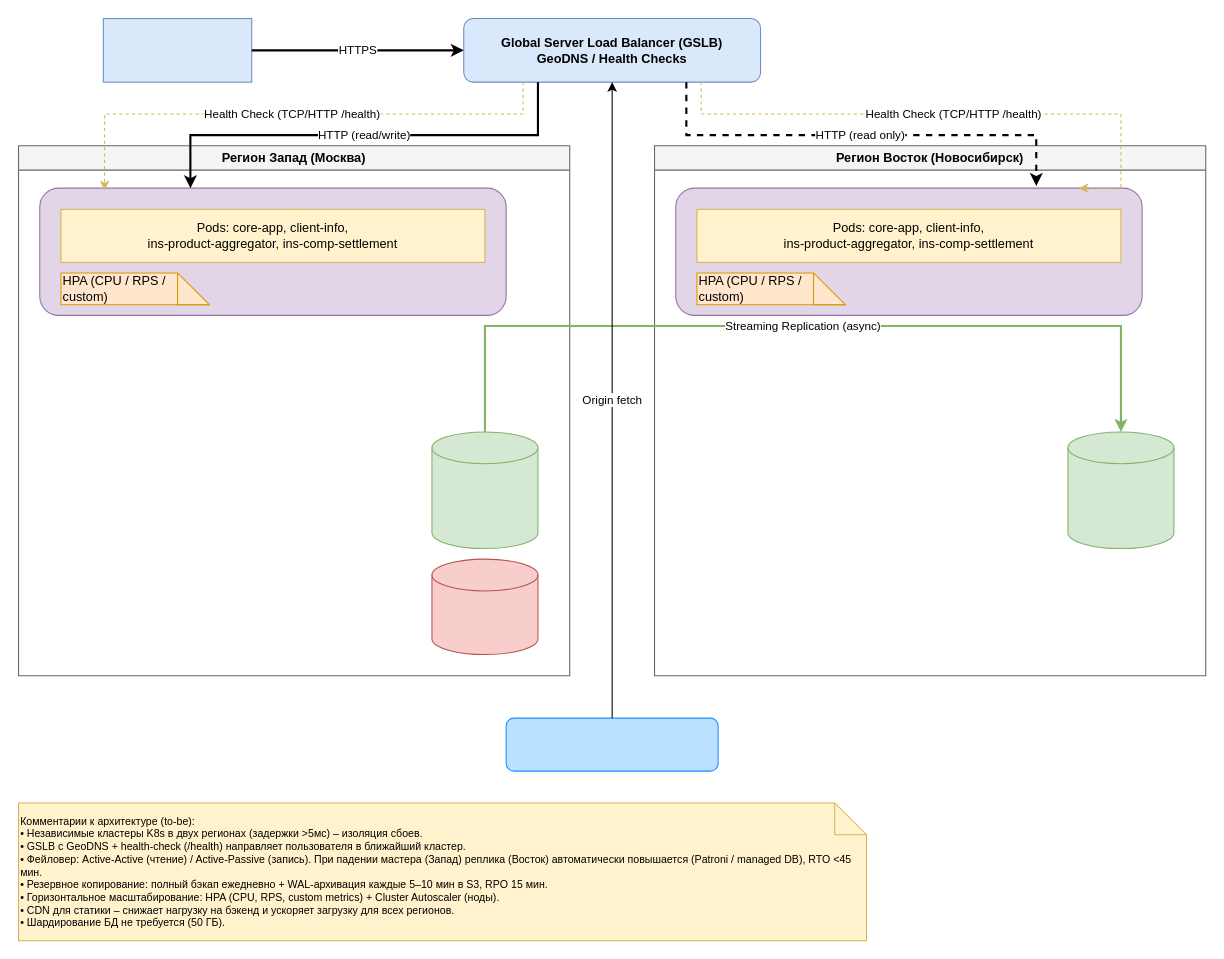
Image size: 1224x959. Some labels were removed from this diagram. Here are the shapes that lost their labels. From the top down, the box of each, then its label:
(102, 17, 252, 82): Браузер пользователя
(431, 431, 538, 549): PostgreSQL Master (RW)
(1067, 431, 1174, 549): PostgreSQL Replica (RO)
(431, 558, 538, 655): S3 Backup (Full + WAL)
(505, 717, 718, 771): CDN (статический контент)
